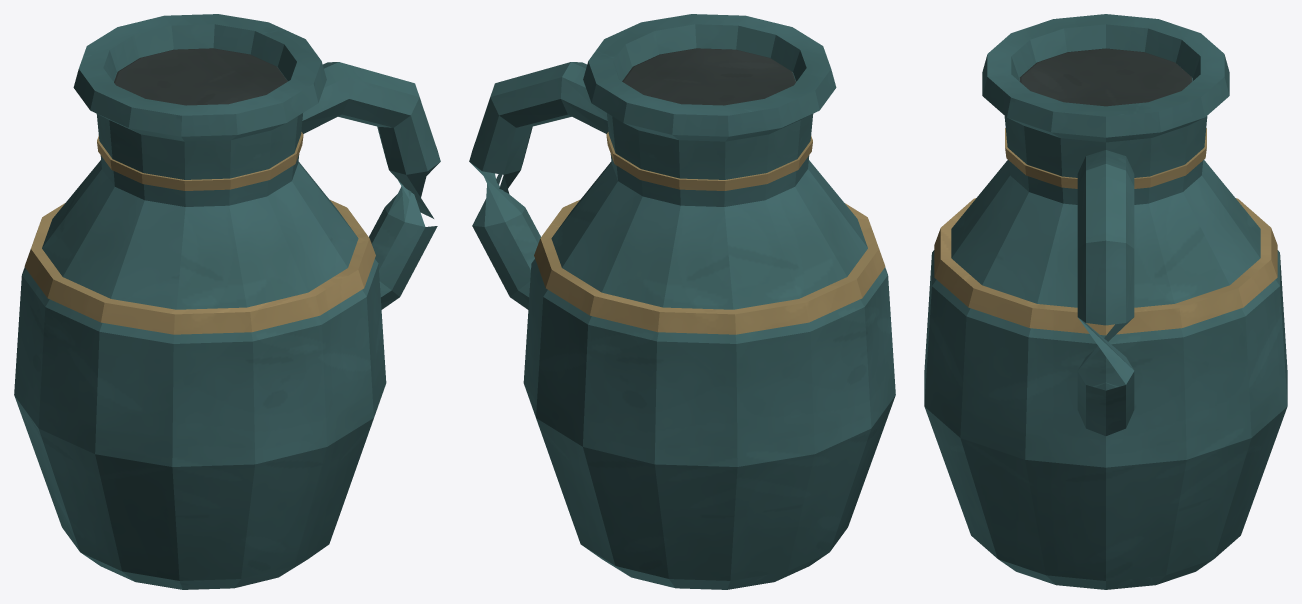
Rendered from open_measure.gltf.
3 renders of one model, left to right at view 1: azimuth 30°, elevation 25°; view 2: azimuth 150°, elevation 25°; view 3: azimuth 270°, elevation 25°, orthographic.
Parts seen in each view (by area): view 1: open_measure; view 2: open_measure; view 3: open_measure.
Part boxes in pixels (x1=…): open_measure: x1=14, y1=14, x2=440, y2=589; open_measure: x1=469, y1=14, x2=895, y2=589; open_measure: x1=924, y1=14, x2=1287, y2=589.
Bounding box in the file's own units: 0.3558 × 0.406 × 0.2808.
Materials: 3 (3 with a texture image).
